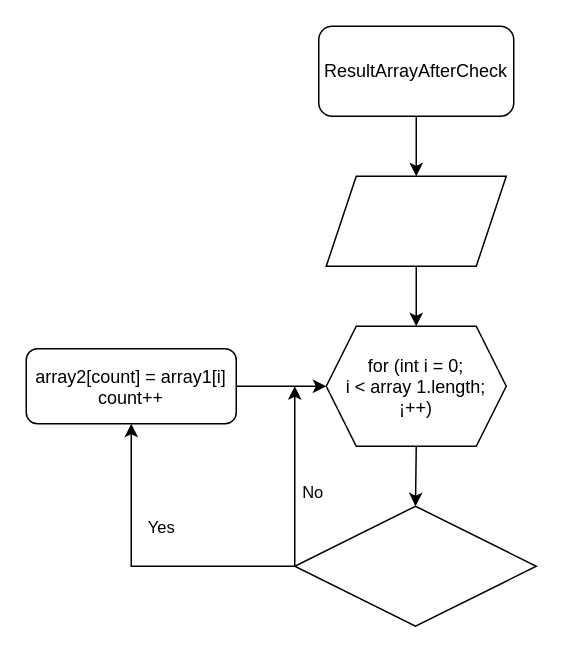
The diagram is 563 pixels wide and 653 high, and some of its shapes have lost their labels. The centre of each missing label's shape, as x and y in pixels:
if (array1[i].length <= 3): (414,565)
string[] array1 string array2 int count = 0: (415,220)
